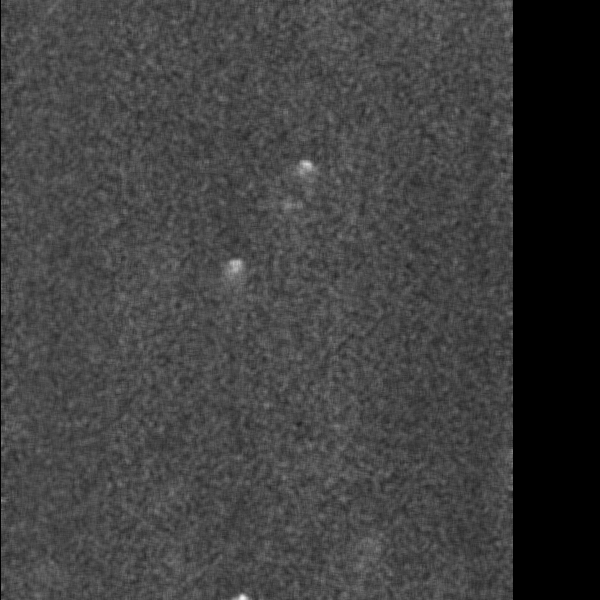spark: (222, 251, 250, 311), (296, 153, 316, 193), (227, 586, 253, 600)
